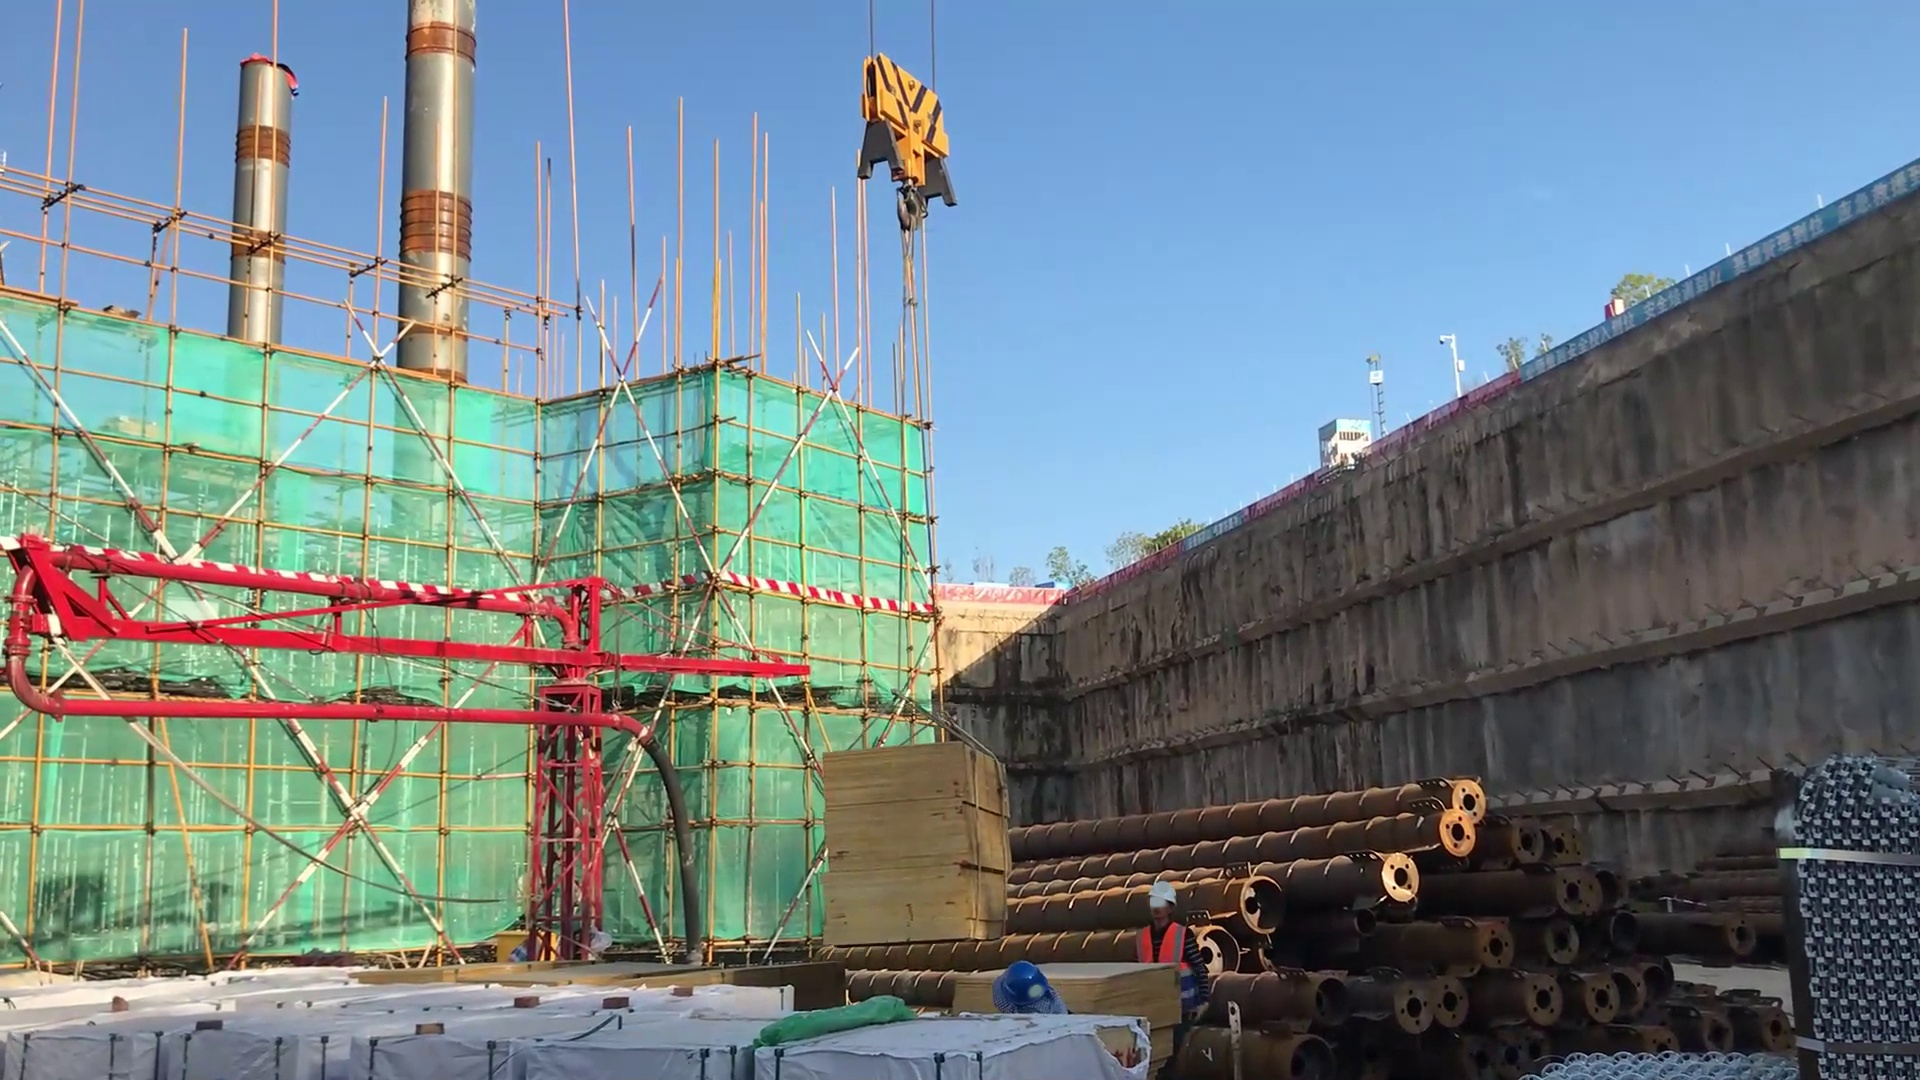board: (816, 743, 1008, 962), (954, 960, 1182, 1060)
ebox: (497, 928, 563, 964)
helmet: (990, 954, 1055, 1013), (1137, 884, 1177, 922)
hook: (819, 37, 998, 323)
person: (1125, 885, 1207, 1074)
scaffold: (1777, 749, 1920, 1073)
slogan: (1511, 165, 1920, 394), (1176, 496, 1247, 556)
vest: (1135, 924, 1201, 1041)
